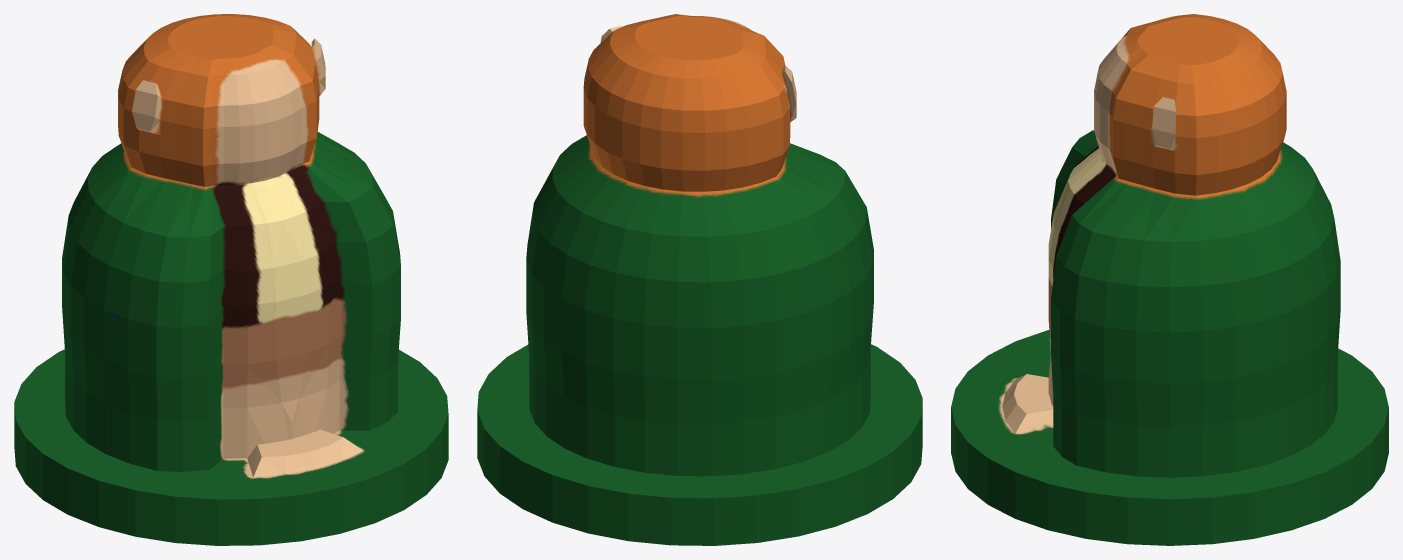
Rendered from Sam.fbx.
3 renders of one model, left to right at view 1: azimuth 30°, elevation 25°; view 2: azimuth 150°, elevation 25°; view 3: azimuth 270°, elevation 25°, orthographic. The views are drawn at different scales.
Parts seen in each view (by area): view 1: node_id5; view 2: node_id5; view 3: node_id5.
Boxes of the visible parts, x1=… form: node_id5: x1=14, y1=14, x2=448, y2=545; node_id5: x1=477, y1=14, x2=922, y2=545; node_id5: x1=951, y1=14, x2=1388, y2=545.
Size of the model in its own units: 0.4925 by 0.512 by 0.4925.
1 material, 1 textured.
